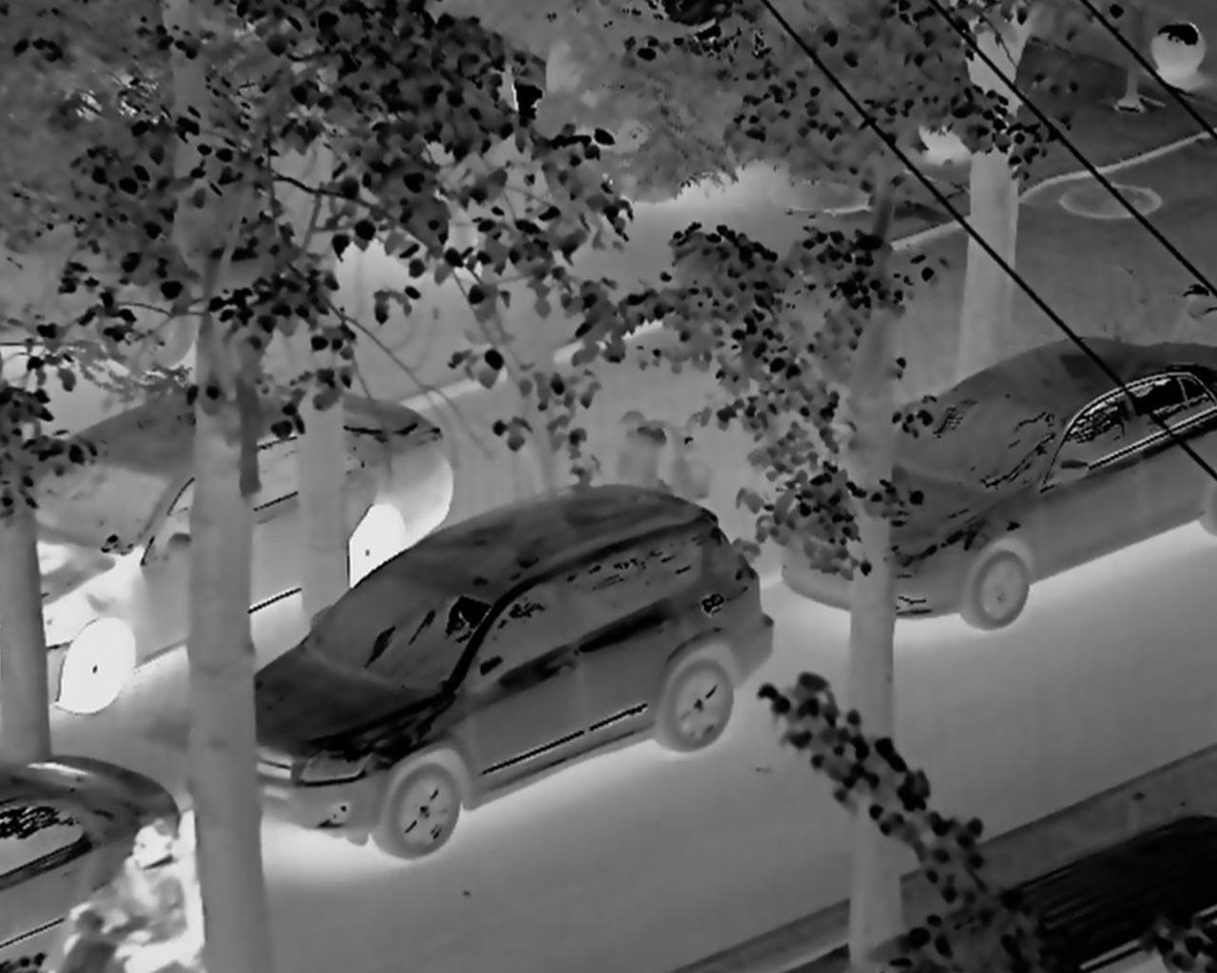person: (89, 815, 221, 963)
